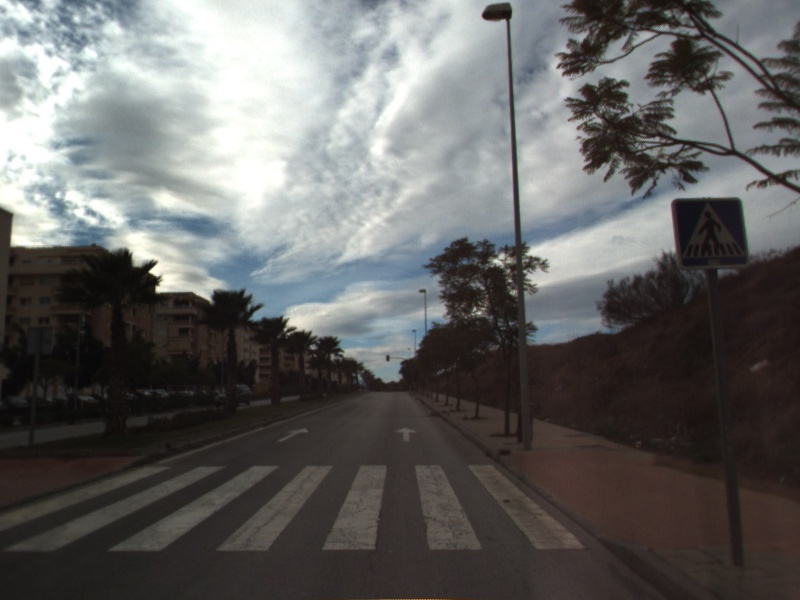STRAIGHT: (275, 425, 311, 443), (393, 425, 419, 444)
